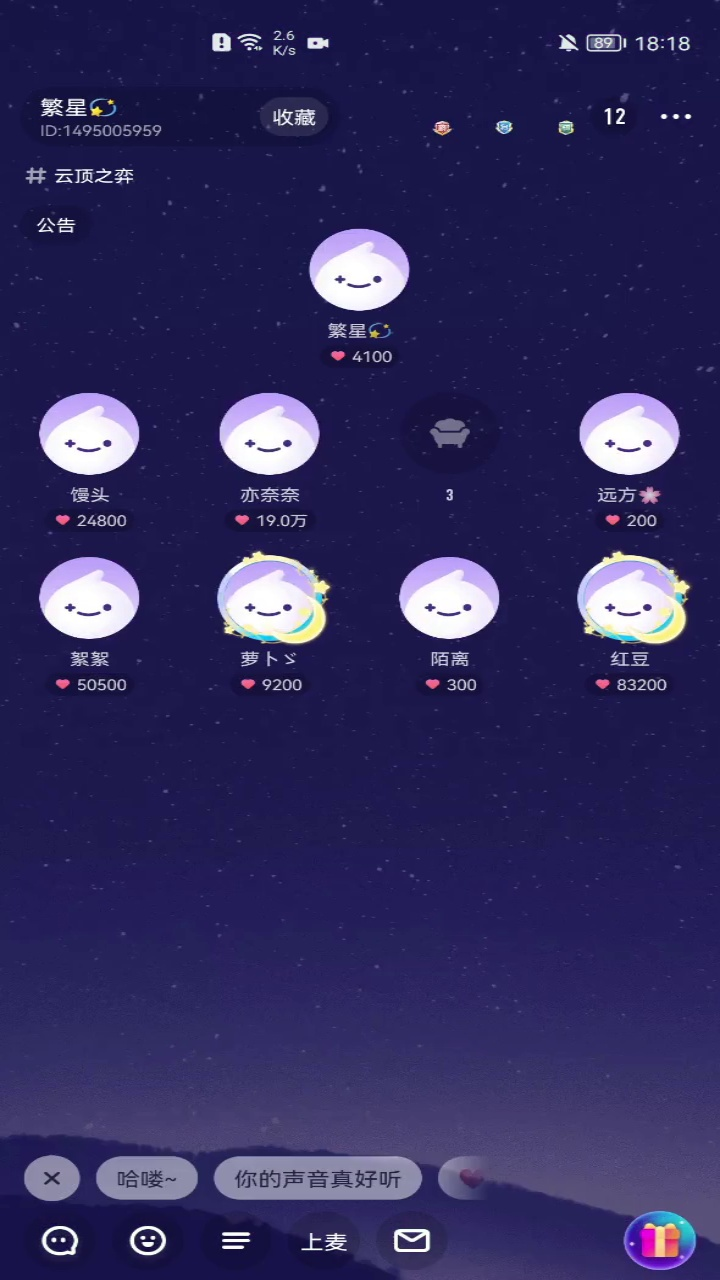avatar: (208, 546, 335, 649), (569, 549, 696, 649), (392, 548, 509, 645), (211, 384, 325, 481), (303, 220, 416, 317), (31, 386, 145, 481), (31, 552, 149, 642), (572, 388, 685, 480)
